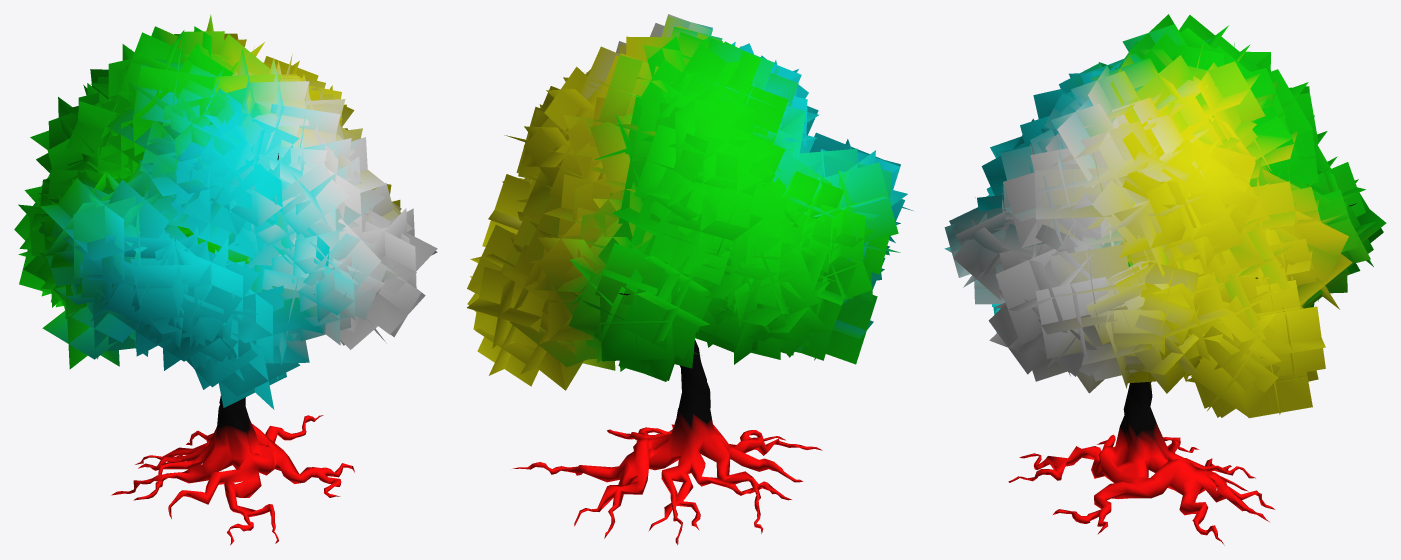
File: OakTree01.fbx
The picture shows the model from 3 angles, left to right: view 1: azimuth 30°, elevation 25°; view 2: azimuth 150°, elevation 25°; view 3: azimuth 270°, elevation 25°; orthographic projection. The views are drawn at different scales.
Parts seen in each view (by area): view 1: OakTreeLeaves01, OakTreeTrunk01; view 2: OakTreeLeaves01, OakTreeTrunk01; view 3: OakTreeLeaves01, OakTreeTrunk01.
Boxes of the visible parts, x1,y1,x2,y2 form: OakTreeLeaves01: [14, 14, 437, 409]; OakTreeTrunk01: [111, 153, 354, 545]; OakTreeLeaves01: [467, 14, 913, 390]; OakTreeTrunk01: [512, 293, 822, 545]; OakTreeLeaves01: [944, 14, 1386, 418]; OakTreeTrunk01: [1008, 203, 1356, 545].
Bounding box in the file's own units: 832 × 982 × 856.
